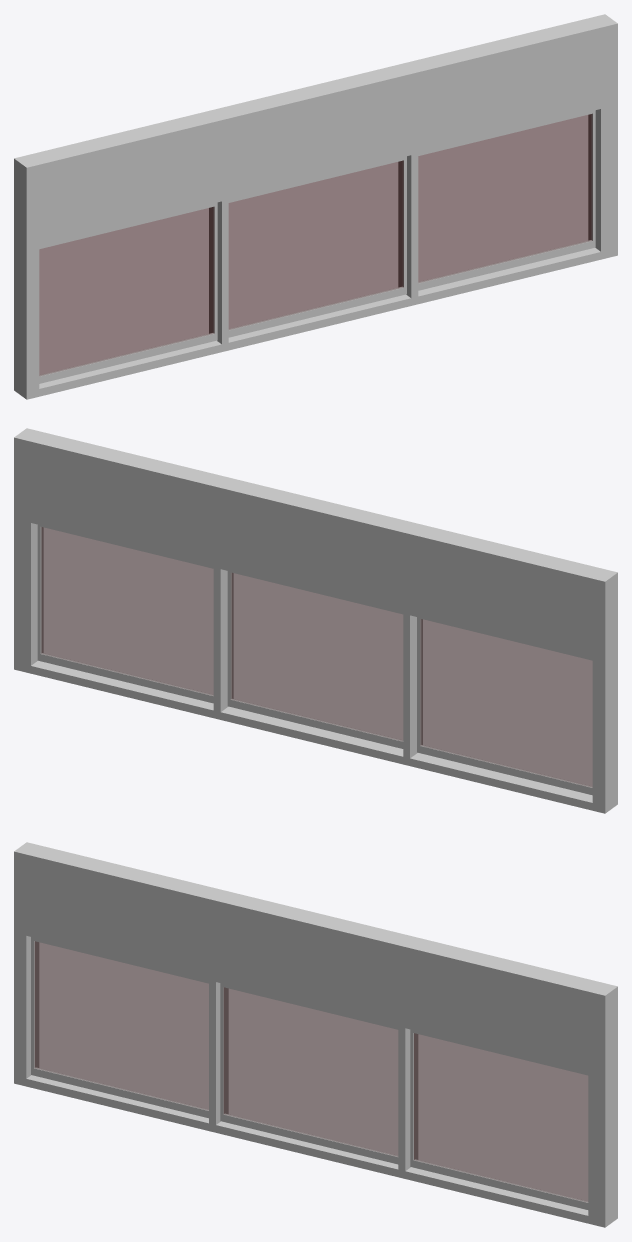
The model's file is Wall With Windows Set 3.FBX.
The picture shows the model from 3 angles, top to bottom: view 1: azimuth 30°, elevation 25°; view 2: azimuth 150°, elevation 25°; view 3: azimuth 330°, elevation 25°; orthographic projection.
Parts seen in each view (by area): view 1: wall with windows set 3; view 2: wall with windows set 3; view 3: wall with windows set 3.
Boxes of the visible parts, x1,y1,x2,y2 form: wall with windows set 3: [14, 14, 617, 399]; wall with windows set 3: [14, 428, 617, 813]; wall with windows set 3: [14, 842, 617, 1227].
Size of the model in its own units: 400 by 150 by 15.
